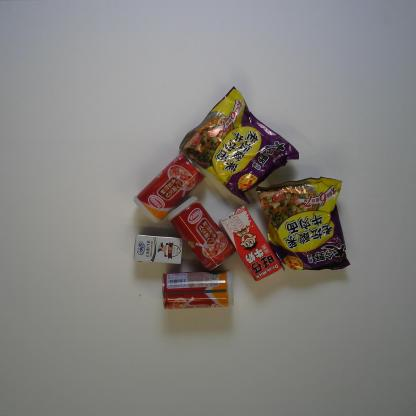Canned Food: (133, 149, 207, 225), (164, 194, 236, 272), (162, 267, 228, 311)
Instant Noodles: (177, 84, 300, 205), (255, 176, 352, 272)
Milk: (218, 206, 282, 282), (134, 234, 184, 266)
